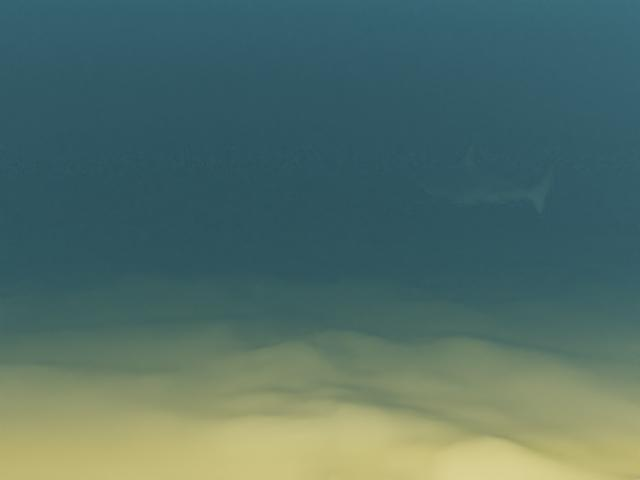Carribean Shark.001: (406, 140, 558, 223)
